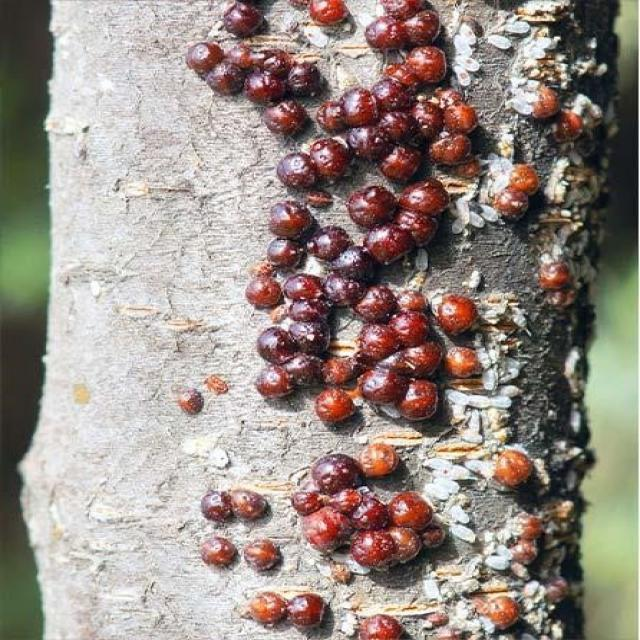BlackScale: (269, 0, 476, 308), (287, 453, 443, 570), (186, 42, 322, 134), (354, 282, 441, 421), (256, 274, 328, 396), (244, 591, 327, 629), (488, 158, 538, 220), (316, 357, 354, 422), (200, 488, 266, 522), (492, 446, 538, 490), (222, 0, 266, 39), (358, 439, 401, 478), (435, 294, 475, 335), (309, 0, 353, 33), (476, 594, 518, 628), (247, 271, 283, 309), (242, 539, 280, 571), (445, 346, 480, 380), (359, 614, 403, 639), (201, 536, 234, 568)
